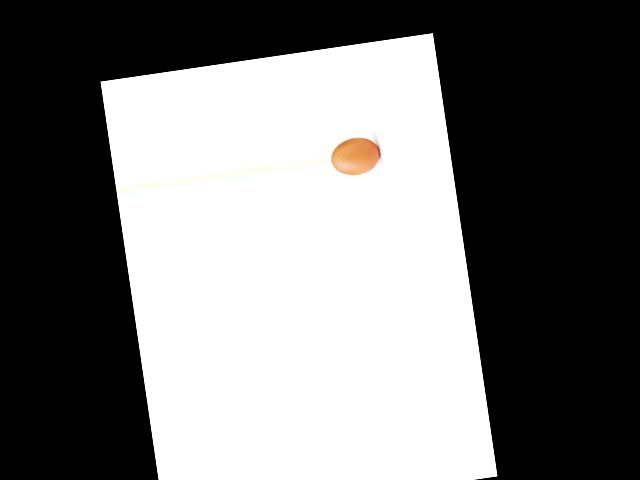egg: (329, 134, 382, 177)
